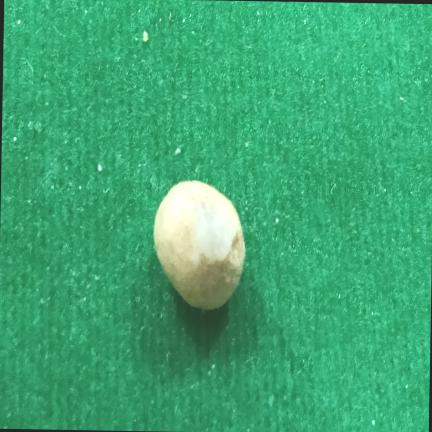good: (153, 180, 244, 309)
